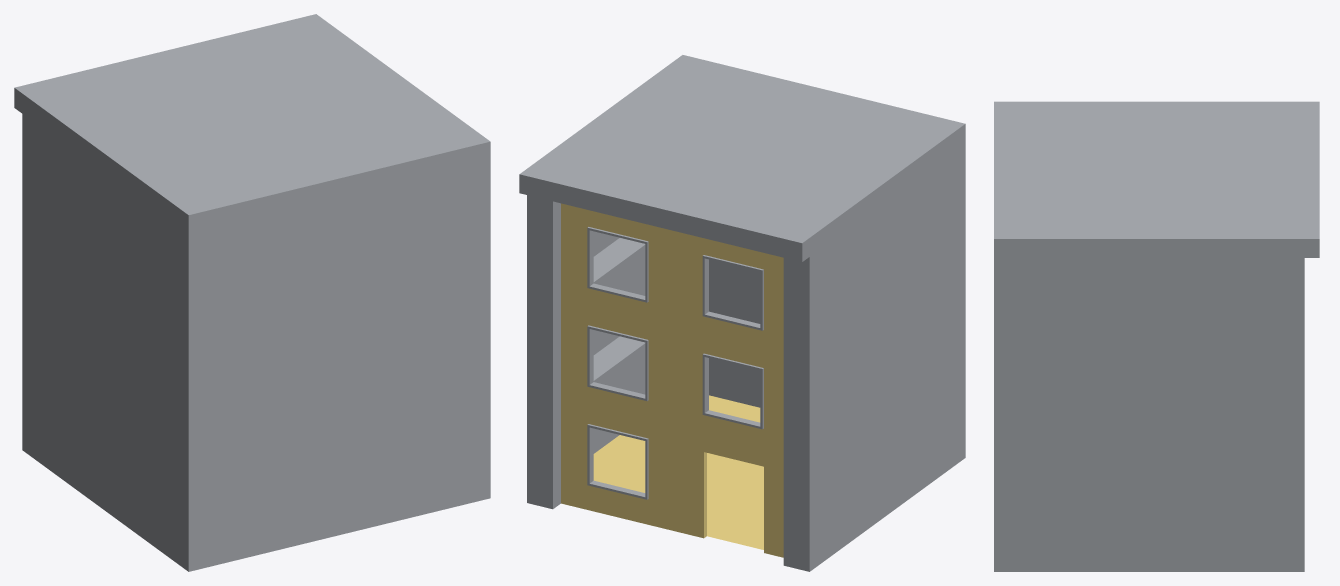
File: Bld_C_high_L1_A.fbx
3 renders of one model, left to right at view 1: azimuth 30°, elevation 25°; view 2: azimuth 150°, elevation 25°; view 3: azimuth 270°, elevation 25°, orthographic. The views are drawn at different scales.
Visible parts, largest first — view 1: Bld_C_high_L1_A_LOD0; view 2: Bld_C_high_L1_A_LOD0; view 3: Bld_C_high_L1_A_LOD0.
Boxes of the visible parts, <box> form: Bld_C_high_L1_A_LOD0: <box>14,14,490,571</box>; Bld_C_high_L1_A_LOD0: <box>519,55,965,571</box>; Bld_C_high_L1_A_LOD0: <box>994,101,1319,571</box>.
Size of what is drawn, in the model's own units: 1300 by 2018 by 1325.
Materials: 1 (1 with a texture image).
